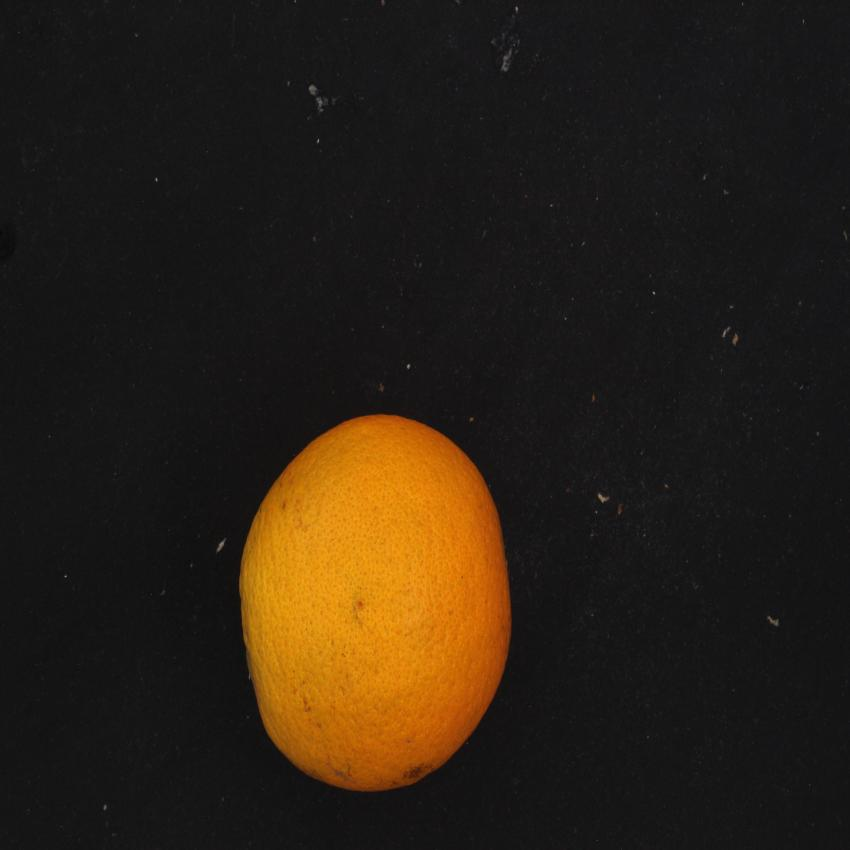Buen estado: (230, 408, 532, 812)
